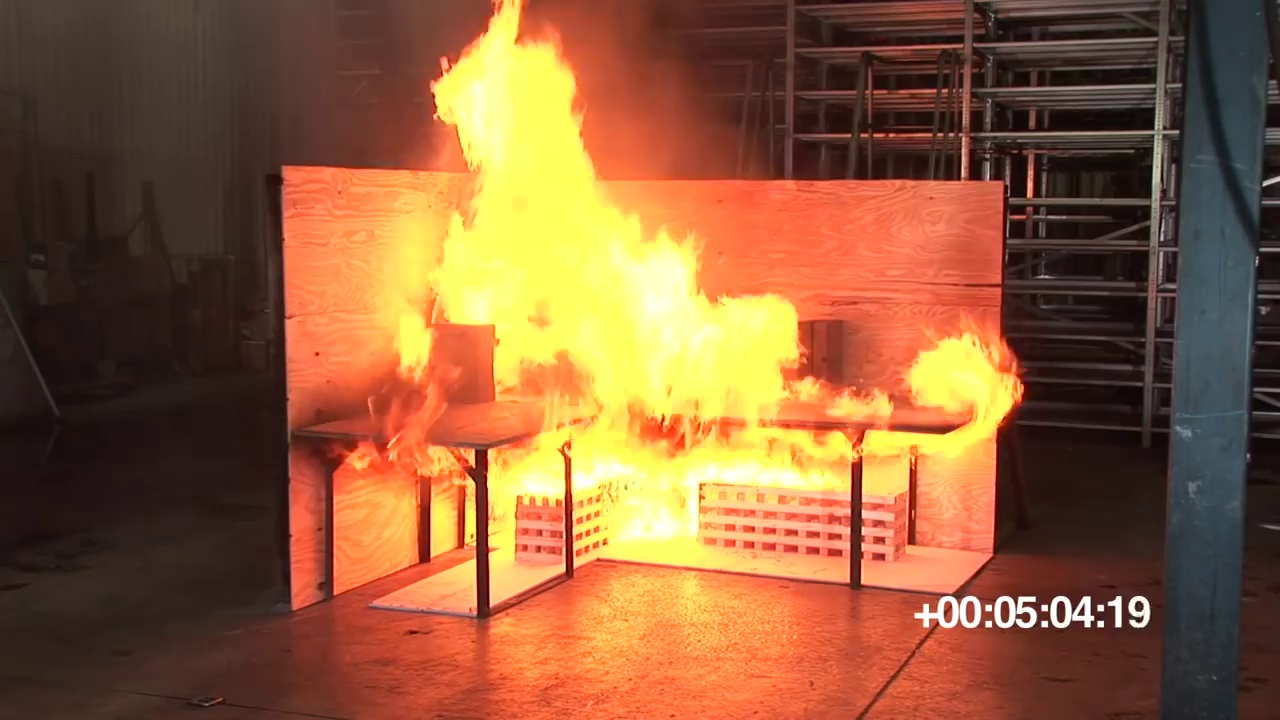fire: (400, 7, 800, 418), (490, 421, 848, 497), (903, 336, 1024, 435)
